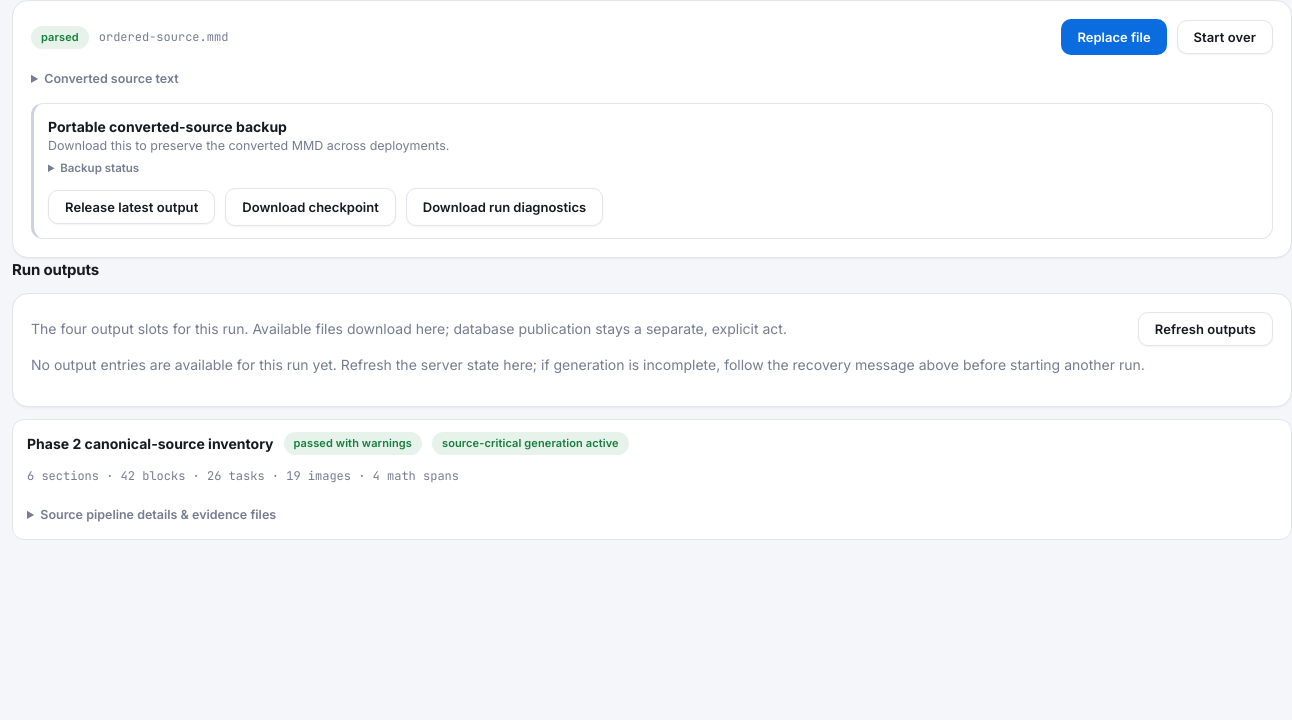
a delayed outputs refresh cannot resurrect a run after Start over
Click the button "Refresh outputs": [1205, 329] box [1138,312,1273,346]
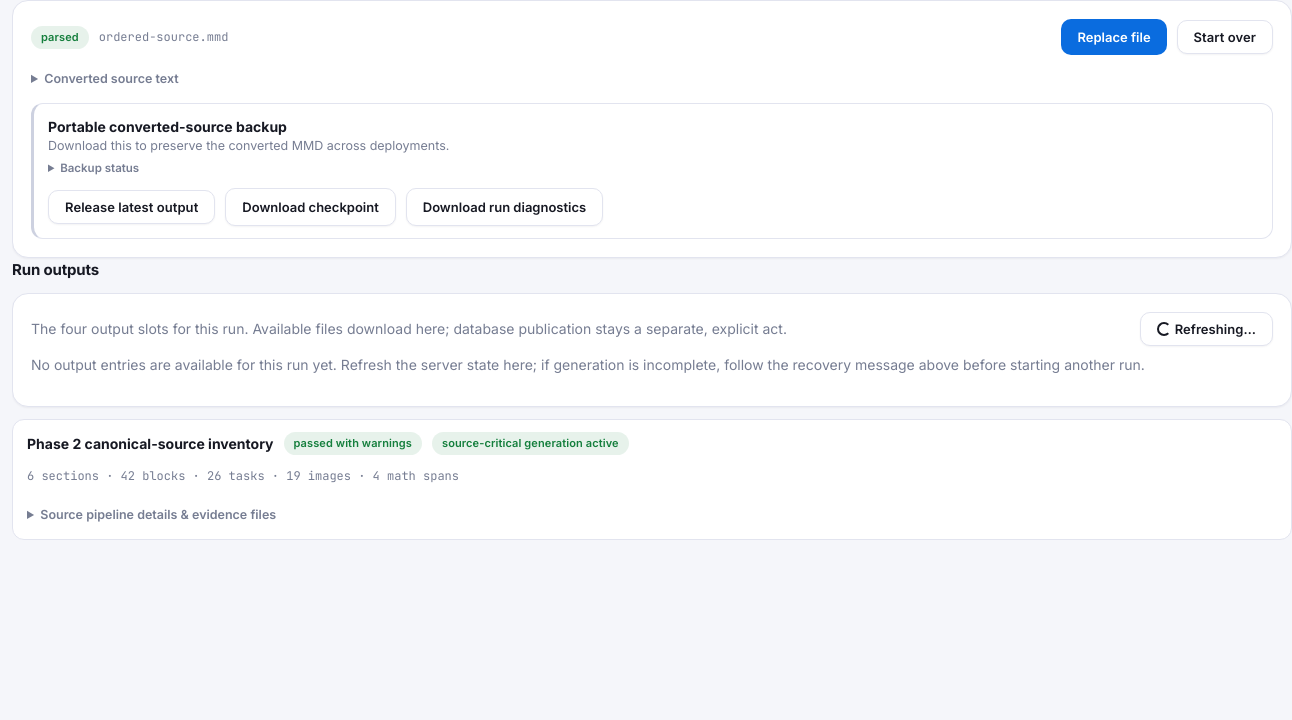
Click the button "Start over": [1225, 37] box [1177,20,1273,54]
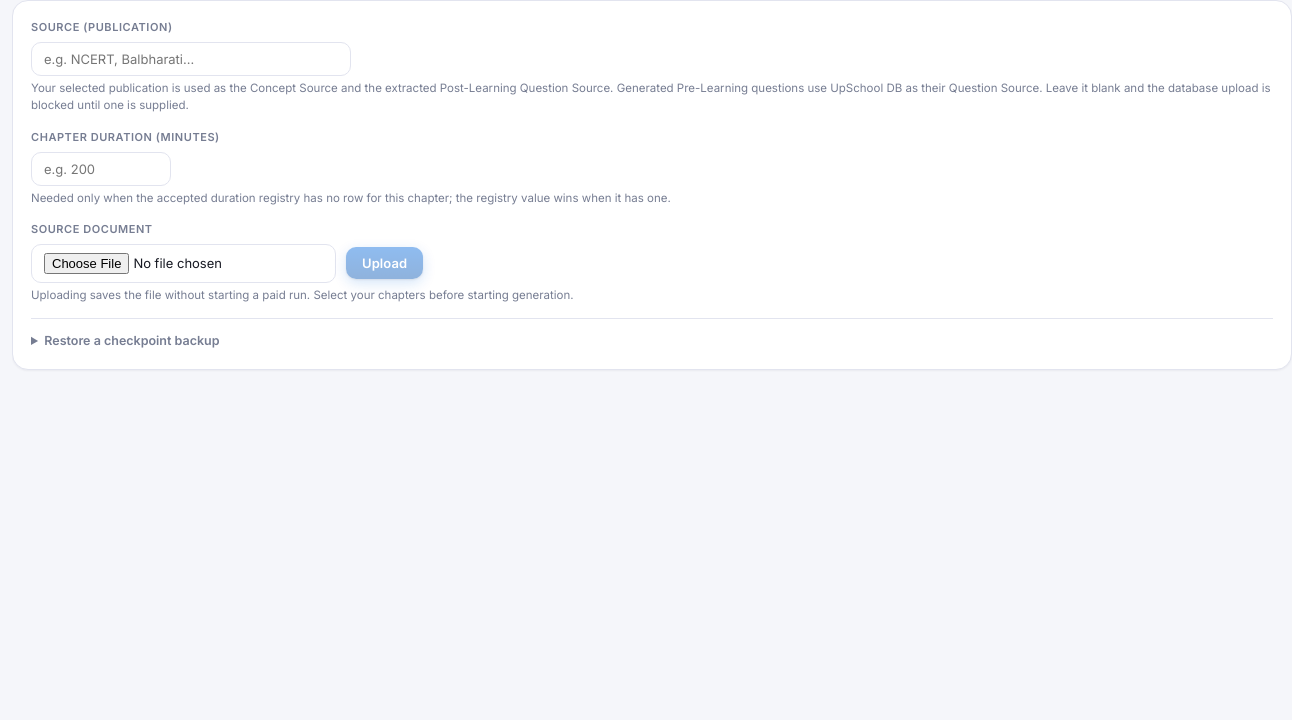
Now the text "Run outputs" is gone
